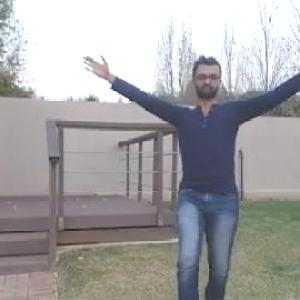takeoff: (60, 39, 300, 299)
